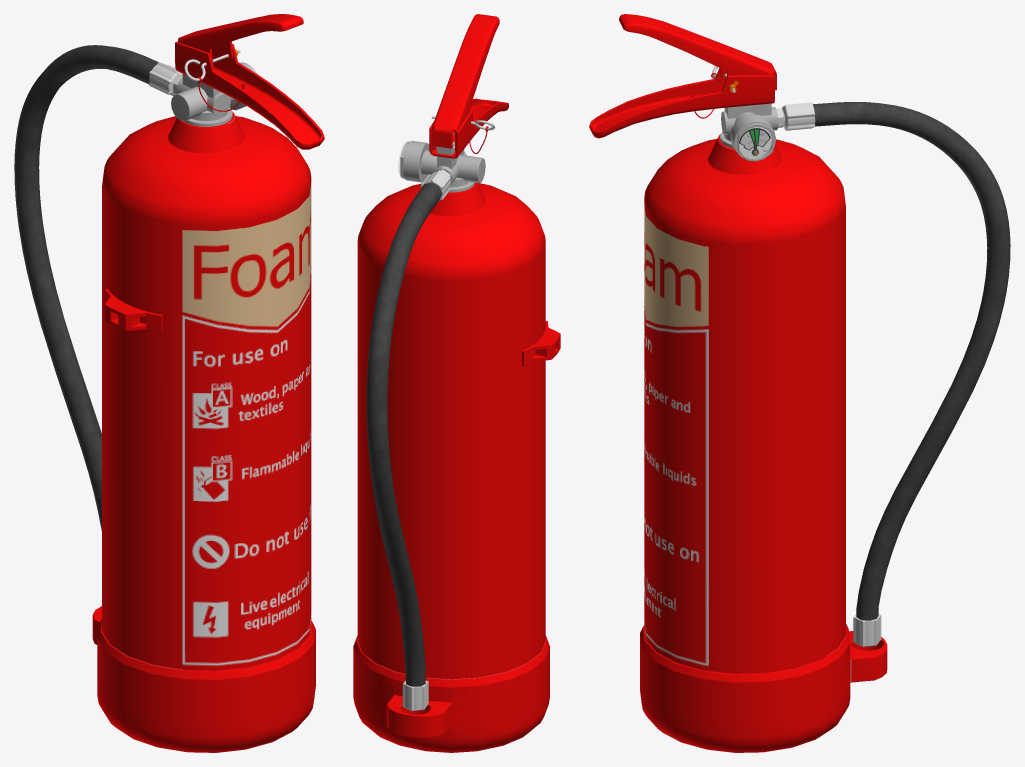
Rendered from foam_silinder.glb.
3 views of the same model, side by side, from view 1: azimuth 30°, elevation 25°; view 2: azimuth 150°, elevation 25°; view 3: azimuth 270°, elevation 25° (orthographic). The views are drawn at different scales.
Parts seen in each view (by area): view 1: Powder_Fire_Extinguisher:pCylinder1, polySurface3, Powder_Fire_Extinguisher:pCube2, polySurface2, pCube6, polySurface4; view 2: Powder_Fire_Extinguisher:pCylinder1, polySurface3, polySurface2, Powder_Fire_Extinguisher:pCube2, pCube6, polySurface6, polySurface4; view 3: Powder_Fire_Extinguisher:pCylinder1, polySurface3, Powder_Fire_Extinguisher:pCube2, polySurface2, Powder_Fire_Extinguisher:polySurface11, Powder_Fire_Extinguisher:glass, polySurface4, polySurface6.
Part boxes in pixels (box(x1,y1,x2,y2)): Powder_Fire_Extinguisher:pCylinder1: box(92, 62, 315, 752); polySurface3: box(14, 45, 158, 530); Powder_Fire_Extinguisher:pCube2: box(175, 42, 324, 149); polySurface2: box(177, 14, 303, 64); pCube6: box(104, 289, 162, 332); polySurface4: box(149, 62, 182, 95); Powder_Fire_Extinguisher:pCylinder1: box(353, 133, 549, 752); polySurface3: box(366, 182, 442, 686); polySurface2: box(432, 14, 499, 152); Powder_Fire_Extinguisher:pCube2: box(429, 98, 508, 158); pCube6: box(522, 321, 560, 366); polySurface6: box(402, 680, 428, 711); polySurface4: box(421, 170, 450, 200); Powder_Fire_Extinguisher:pCylinder1: box(640, 103, 887, 752); polySurface3: box(813, 102, 1010, 620); Powder_Fire_Extinguisher:pCube2: box(589, 68, 774, 138); polySurface2: box(619, 14, 776, 90); Powder_Fire_Extinguisher:polySurface11: box(737, 123, 773, 161); Powder_Fire_Extinguisher:glass: box(739, 127, 772, 159); polySurface4: box(782, 102, 815, 130); polySurface6: box(853, 614, 881, 646).
Size of the model in its own units: 0.188 by 0.6563 by 0.353.
2 materials, 1 textured.
